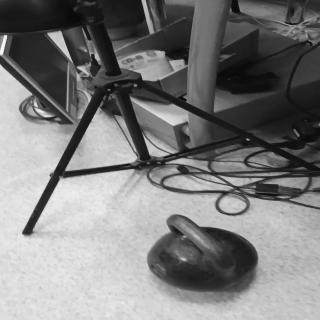girya: (150, 216, 261, 292)
